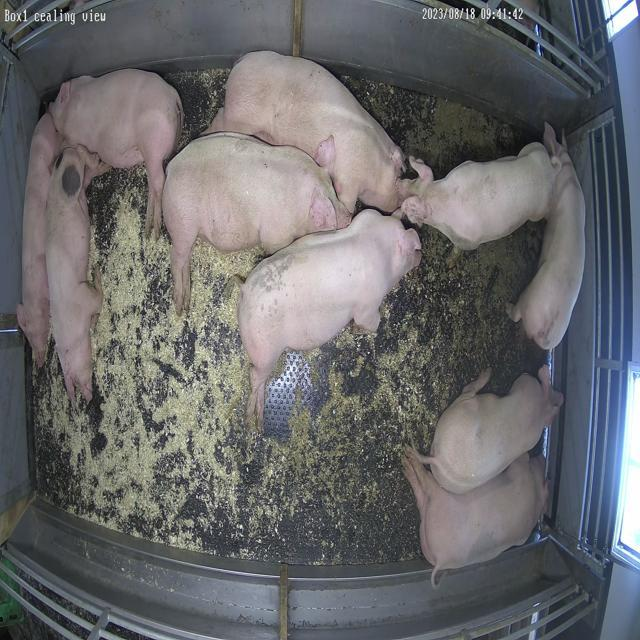Dirt: (311, 364, 449, 564), (409, 223, 547, 406), (339, 73, 526, 178)
Pig: (238, 209, 422, 430), (162, 132, 352, 312), (206, 50, 405, 212), (48, 68, 183, 236), (403, 451, 549, 586), (421, 367, 564, 495), (45, 145, 109, 401), (402, 144, 556, 250), (512, 143, 587, 350), (16, 112, 62, 366)
